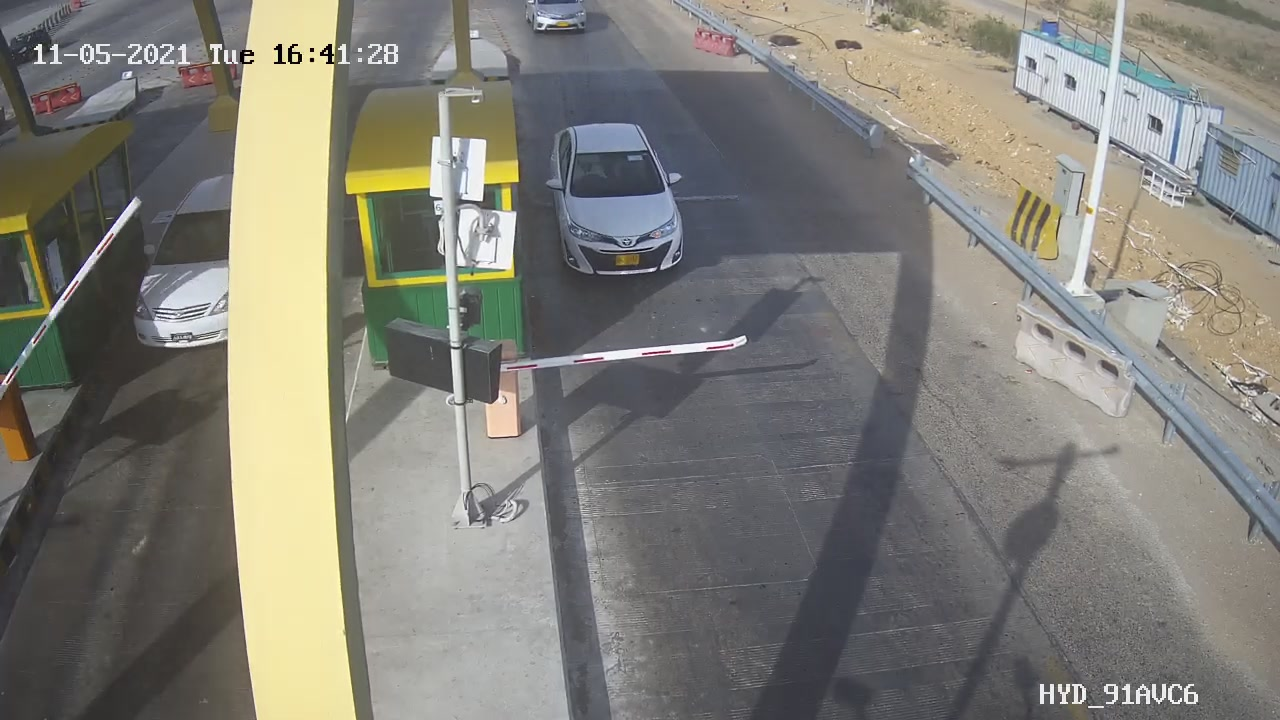F1: (527, 113, 713, 299)
